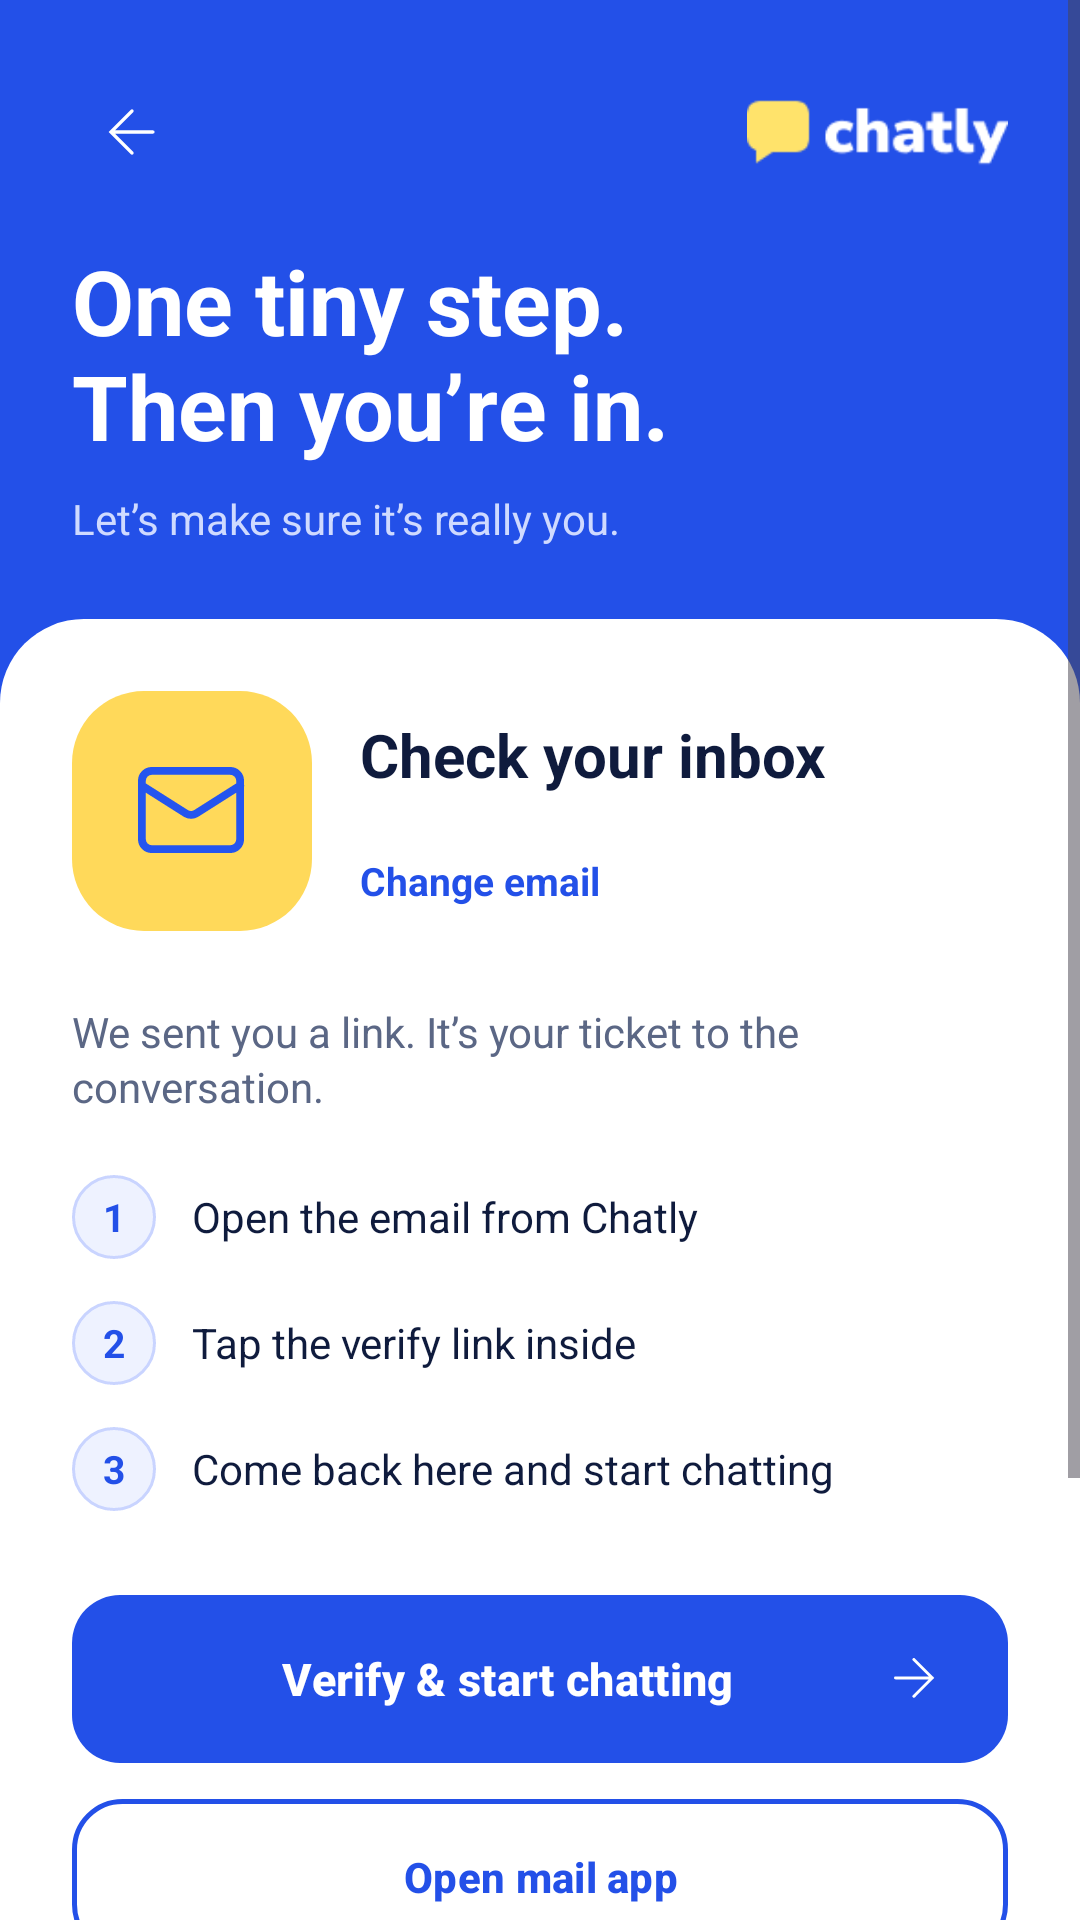

Screen size 1080 × 1920. Icon name, then its center in pixels as (x=x, y=y):
Back: (x=132, y=132)
